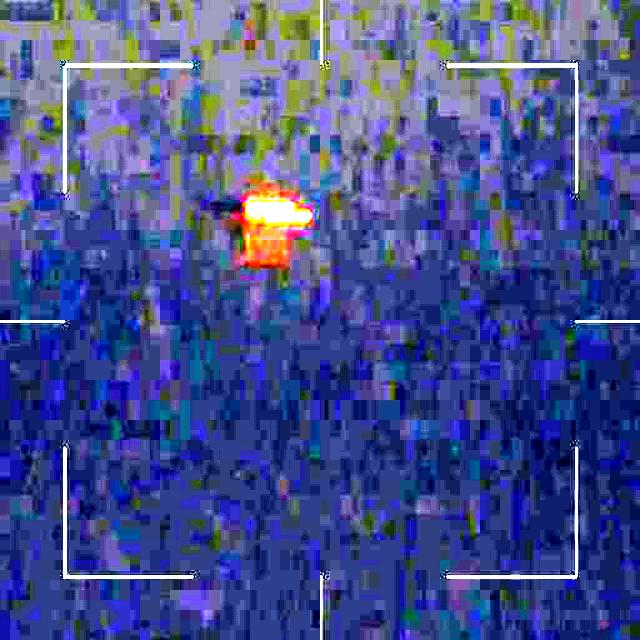bird: (219, 191, 320, 268)
